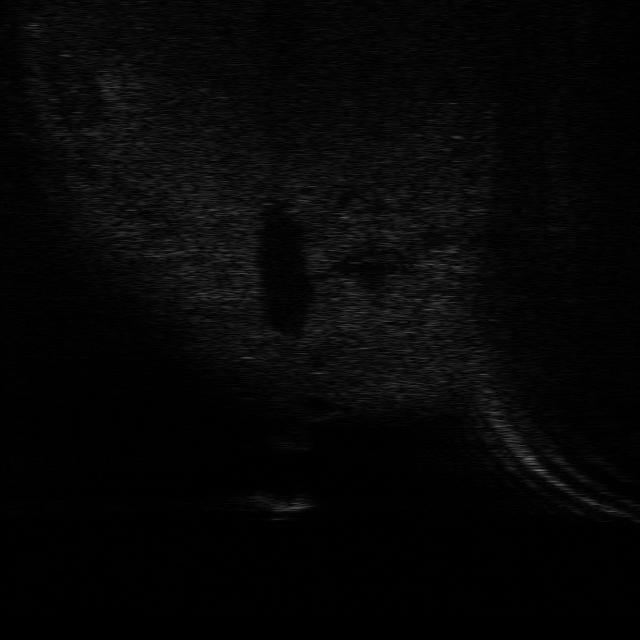cube: (240, 489, 320, 521)
